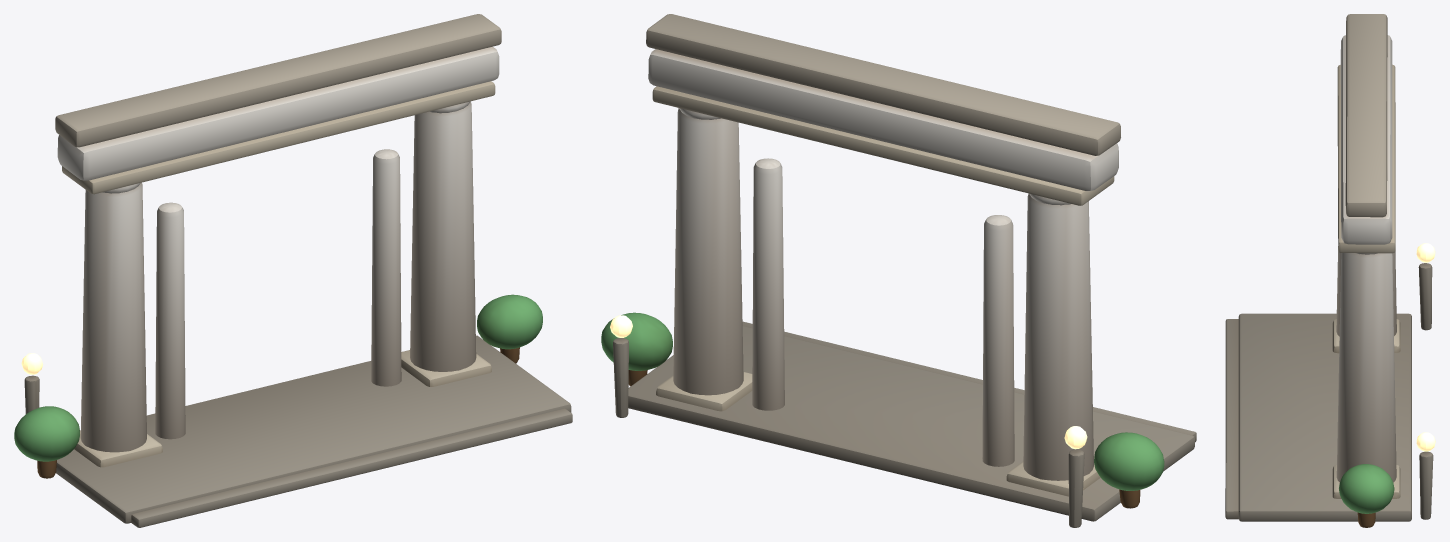
The picture shows the model from 3 angles, left to right: view 1: azimuth 30°, elevation 25°; view 2: azimuth 150°, elevation 25°; view 3: azimuth 270°, elevation 25°; orthographic projection. The views are drawn at different scales.
Parts seen in each view (by area): view 1: gate_acc26f24; view 2: gate_acc26f24; view 3: gate_acc26f24.
Part boxes in pixels (box(x1,y1,x2,y2)): gate_acc26f24: box(14, 14, 572, 527); gate_acc26f24: box(601, 14, 1196, 527); gate_acc26f24: box(1225, 14, 1435, 527).
Bounding box in the file's own units: 6.64 × 4.24 × 2.55.
